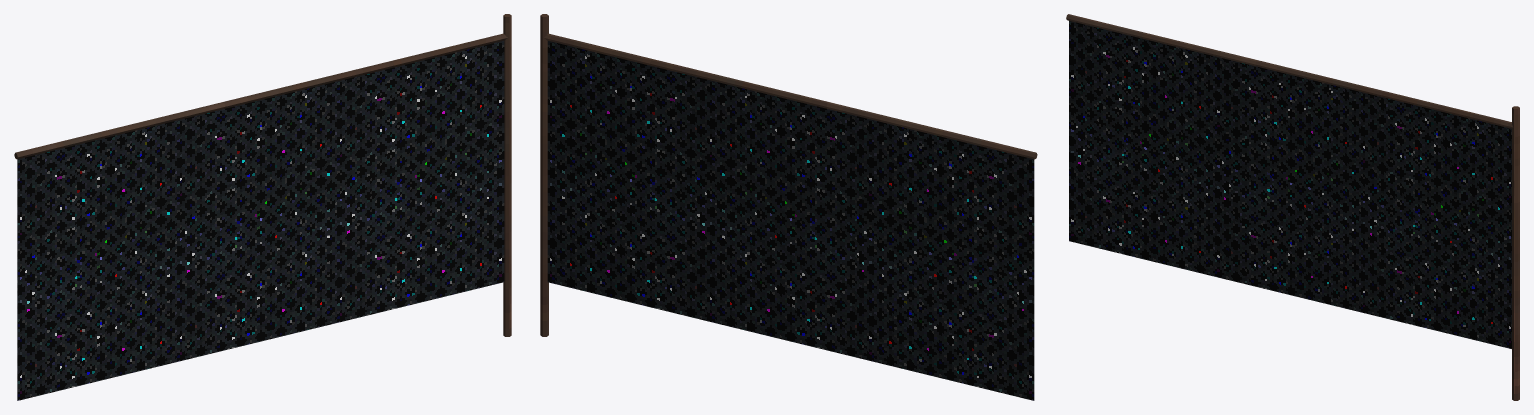
File: metalfence_one_side_topbar.glb
3 views of the same model, side by side, from view 1: azimuth 30°, elevation 25°; view 2: azimuth 150°, elevation 25°; view 3: azimuth 330°, elevation 25° (orthographic). The views are drawn at different scales.
Parts seen in each view (by area): view 1: metalfence_one_side_topbar; view 2: metalfence_one_side_topbar; view 3: metalfence_one_side_topbar.
Part boxes in pixels (left/top/right/bottom): metalfence_one_side_topbar: left=14, top=14, right=511, bottom=400; metalfence_one_side_topbar: left=540, top=14, right=1037, bottom=400; metalfence_one_side_topbar: left=1066, top=14, right=1519, bottom=400.
Size of the model in its own units: 2.7 by 1.67 by 0.04.
2 materials, 2 textured.
